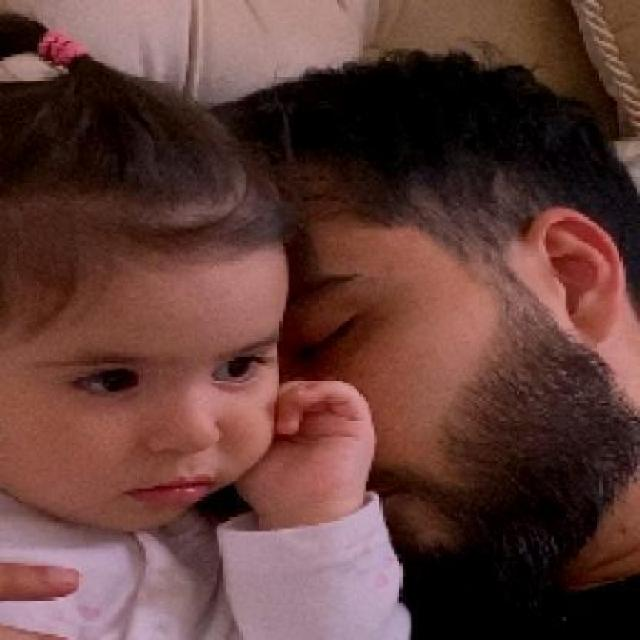child: (2, 0, 415, 637)
